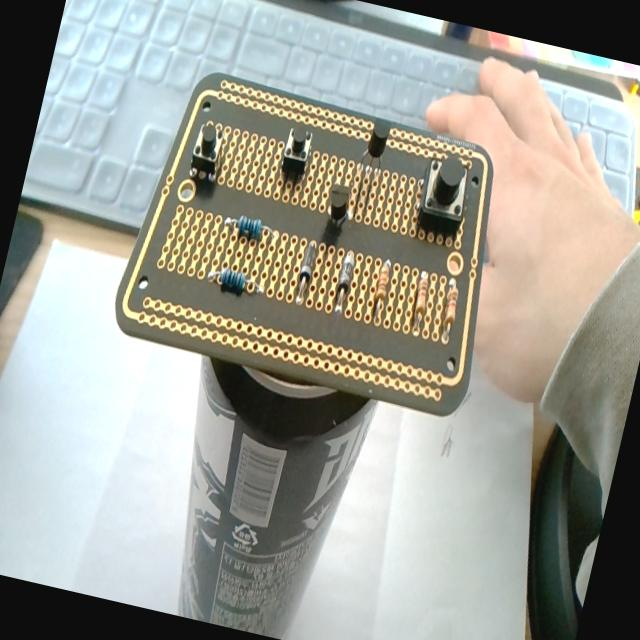diode: (292, 237, 319, 306), (331, 248, 358, 314)
resistor: (204, 262, 264, 300), (434, 274, 464, 342), (223, 210, 280, 245), (406, 270, 434, 334), (369, 258, 394, 318)
switch: (409, 146, 478, 238), (184, 115, 228, 184), (277, 124, 316, 184)
transistor: (354, 111, 398, 178), (322, 182, 359, 232)
